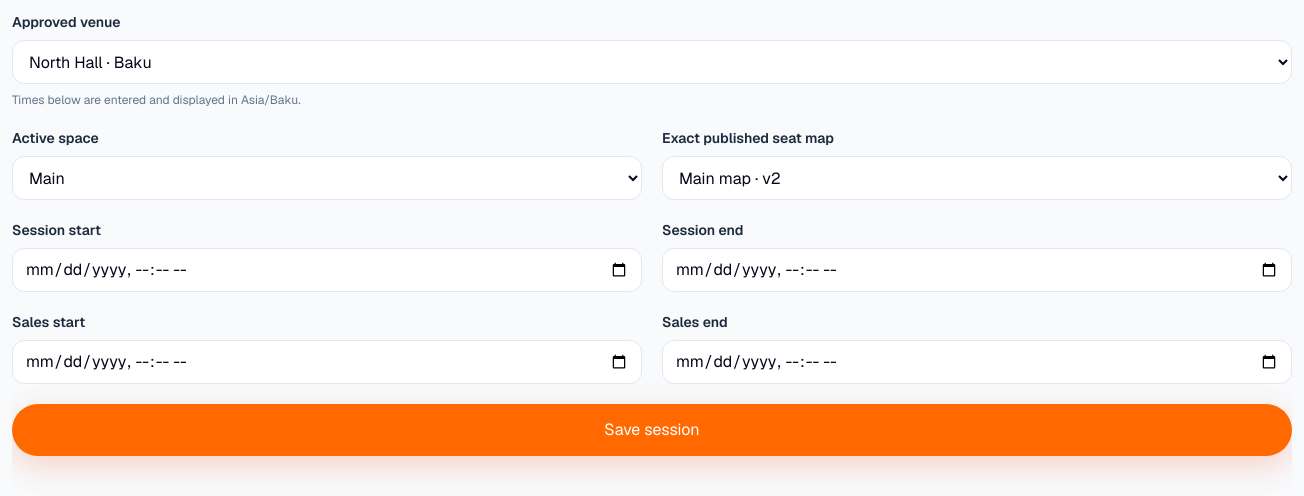
Scenario: Phase 3 organizer forms › filters spaces and published maps when the approved venue changes
The image size is (1304, 496).
Select "South Hall · Tbilisi" in the dropdown labelled "Approved venue" at (652, 62), box [12, 40, 1292, 84]
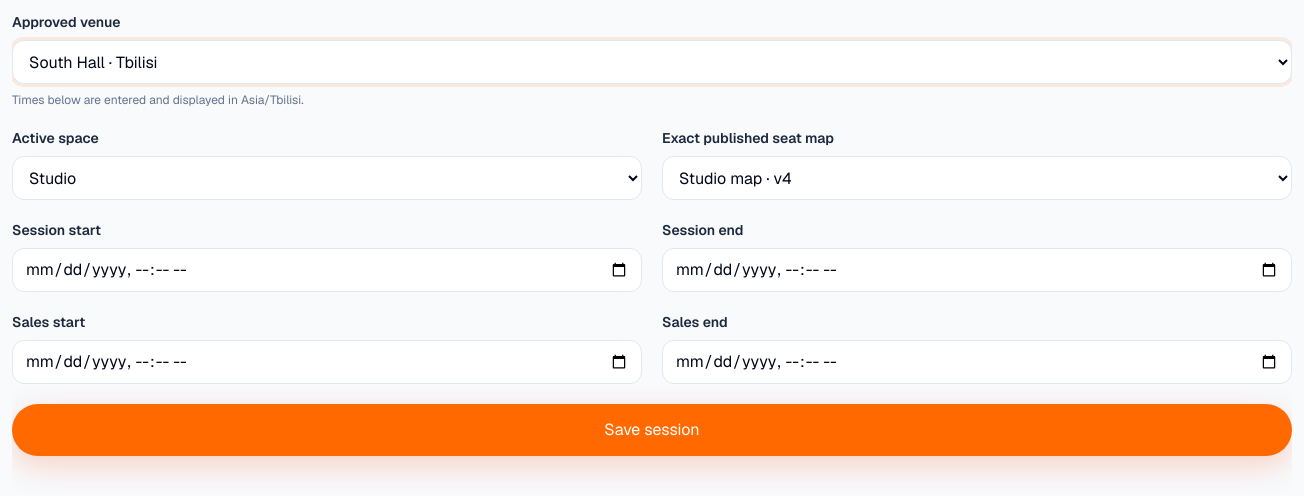
expect the dropdown labelled "Active space" shows "Studio": met, box [12, 156, 642, 200]
expect the dropdown labelled "Exact published seat map" shows "Studio map · v4": met, box [662, 156, 1292, 200]
expect the text "Times below are entered and displayed in Asia/Tbilisi." is shown: met, box [12, 92, 304, 108]
